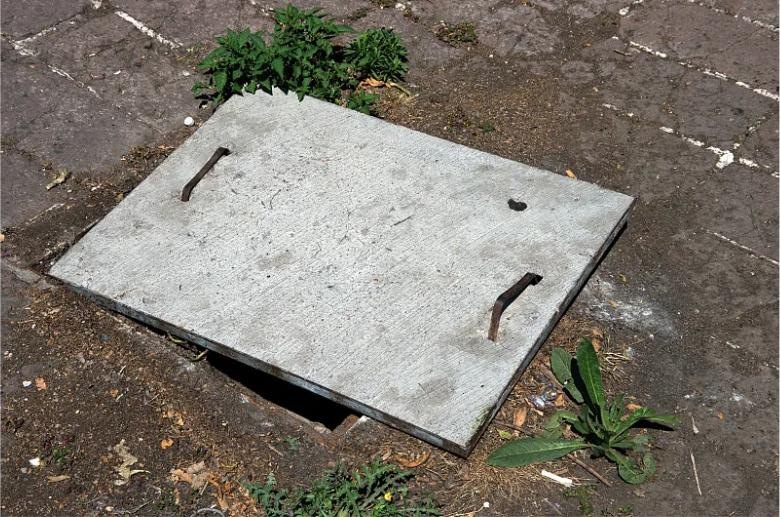wellcover: (61, 66, 656, 458)
